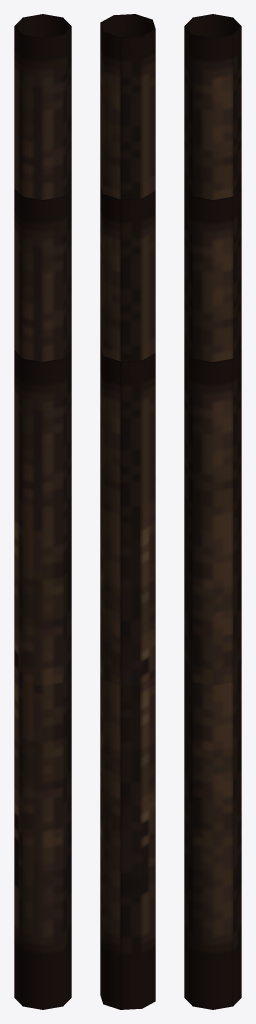
Rendered from EnvBdgMD_Sea_Lighthouse_Gear_A_Pole.FBX.
The picture shows the model from 3 angles, left to right: view 1: azimuth 90°, elevation 25°; view 2: azimuth 210°, elevation 25°; view 3: azimuth 270°, elevation 25°; orthographic projection.
Parts seen in each view (by area): view 1: EnvBdgMD_Sea_Lighthouse_Gear_A_Pole; view 2: EnvBdgMD_Sea_Lighthouse_Gear_A_Pole; view 3: EnvBdgMD_Sea_Lighthouse_Gear_A_Pole.
Part boxes in pixels (x1,y1,x2,y2): EnvBdgMD_Sea_Lighthouse_Gear_A_Pole: (14, 14, 71, 1009); EnvBdgMD_Sea_Lighthouse_Gear_A_Pole: (100, 14, 155, 1009); EnvBdgMD_Sea_Lighthouse_Gear_A_Pole: (184, 14, 241, 1009).
Bounding box in the file's own units: 32 × 600 × 32.
Materials: 1 (1 with a texture image).
